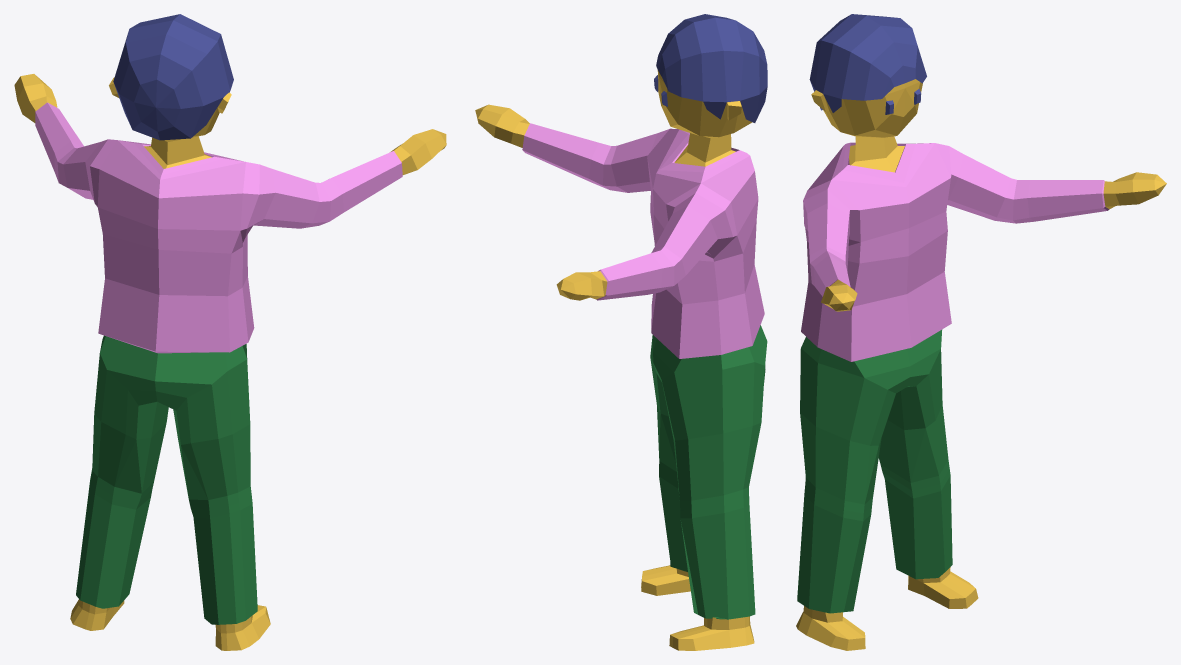
The model's file is 099_店員(Man).glb.
3 renders of one model, left to right at view 1: azimuth 30°, elevation 25°; view 2: azimuth 150°, elevation 25°; view 3: azimuth 270°, elevation 25°, orthographic. The views are drawn at different scales.
Visible parts, largest first — view 1: 立方体062_3, 立方体062_2, 立方体062, 立方体062_1; view 2: 立方体062_3, 立方体062_2, 立方体062_1, 立方体062; view 3: 立方体062_3, 立方体062_2, 立方体062_1, 立方体062.
Part boxes in pixels (x1,y1,x2,y2): 立方体062_3: (35, 102, 402, 353); 立方体062_2: (76, 335, 257, 624); 立方体062: (113, 14, 233, 140); 立方体062_1: (14, 74, 446, 650); 立方体062_3: (522, 123, 764, 358); 立方体062_2: (650, 325, 767, 619); 立方体062_1: (475, 70, 754, 650); 立方体062: (654, 14, 767, 122); 立方体062_3: (801, 142, 1109, 361); 立方体062_2: (797, 329, 952, 613); 立方体062_1: (796, 79, 1166, 650); 立方体062: (809, 14, 926, 114).
Bounding box in the file's own units: 1.16 × 2.06 × 1.16.
